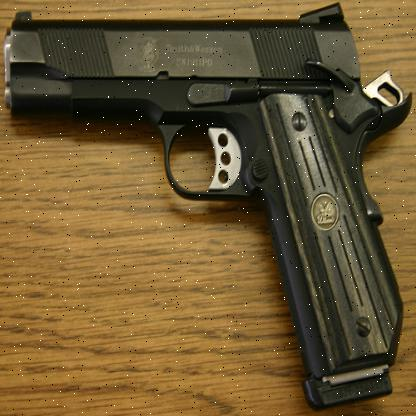pistol: (5, 1, 409, 409)
